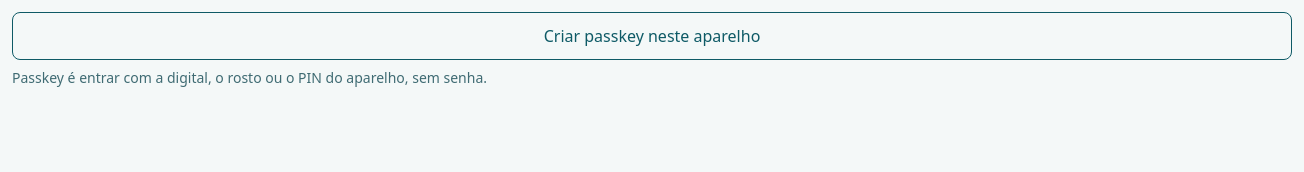
it: PasskeyButton › says the passkey was not created when the device refuses
Click the button "Criar passkey neste aparelho" at (652, 36), box [12,12,1292,60]
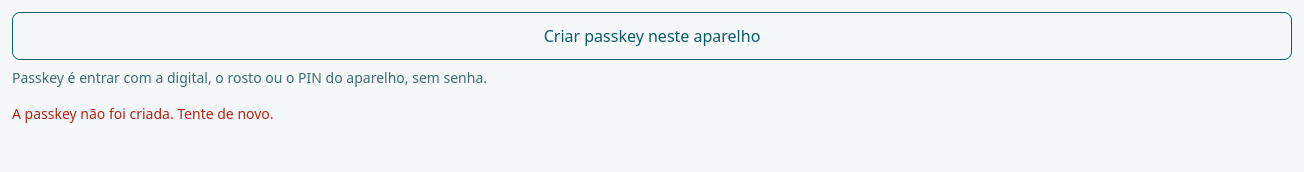
expect the message reads "A passkey não foi criada. Tente de novo.": met, box [12,104,274,123]
